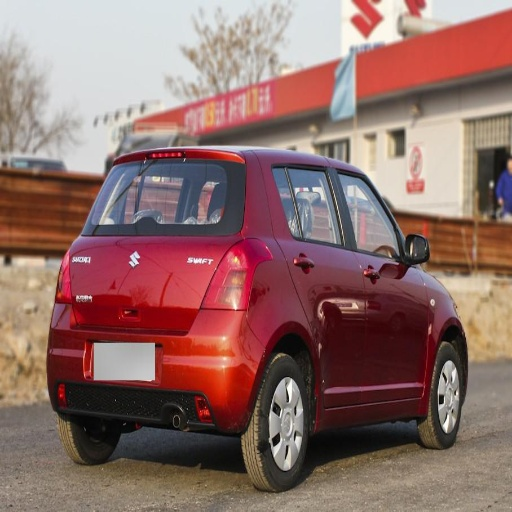back_bumper: (49, 308, 267, 433)
back_right_door: (273, 162, 365, 405)
trunk: (58, 229, 230, 342)
